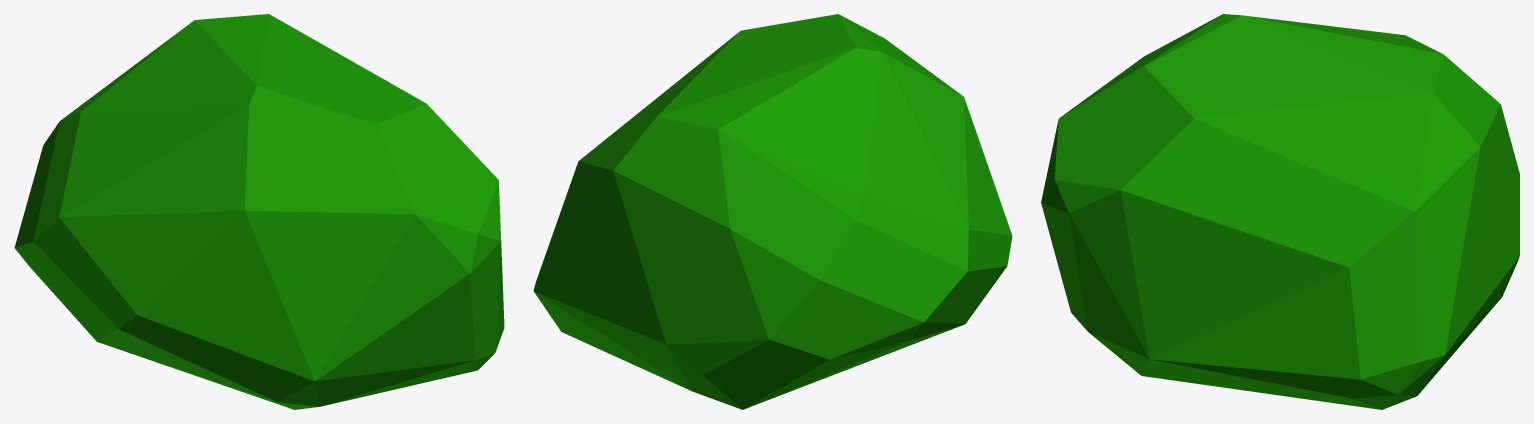
The model's file is bush-2.glb.
3 renders of one model, left to right at view 1: azimuth 30°, elevation 25°; view 2: azimuth 150°, elevation 25°; view 3: azimuth 270°, elevation 25°, orthographic. The views are drawn at different scales.
Parts seen in each view (by area): view 1: Bush 2; view 2: Bush 2; view 3: Bush 2.
Part boxes in pixels (<box>): Bush 2: <box>14,14,504,409</box>; Bush 2: <box>533,14,1012,409</box>; Bush 2: <box>1041,14,1519,409</box>.
Bounding box in the file's own units: 4.39 × 2.95 × 4.41.
